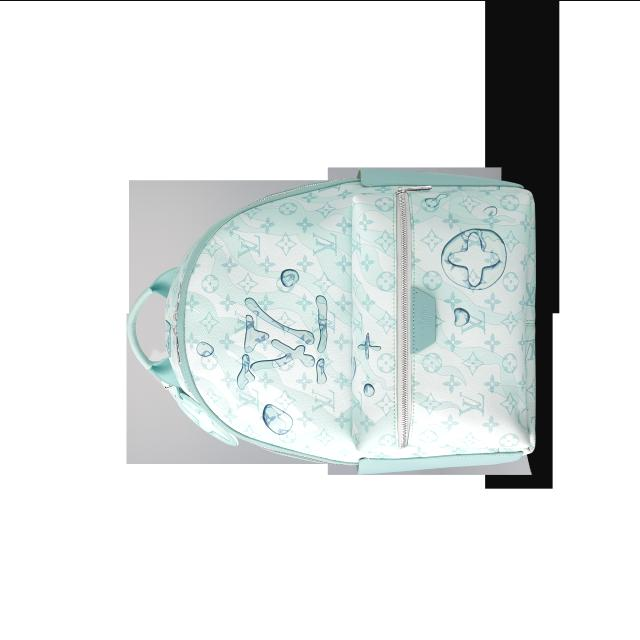backpack: (128, 169, 538, 475)
